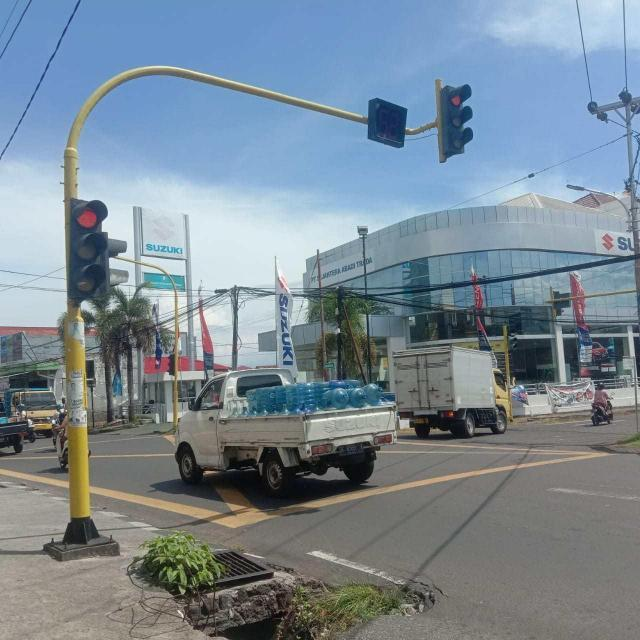red_light: (70, 197, 106, 298), (443, 82, 472, 154)
